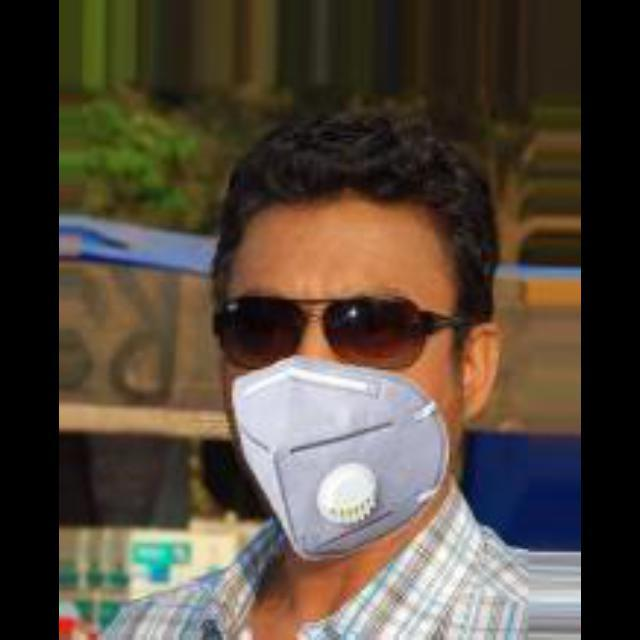suspicion: (149, 77, 489, 540)
